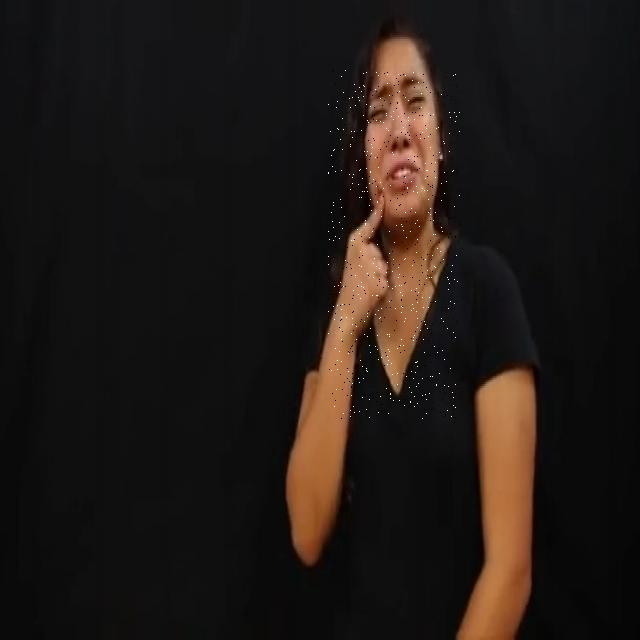bitter: (328, 70, 460, 420)
